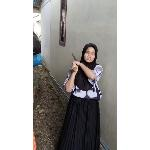Kapak: (68, 49, 80, 73)
